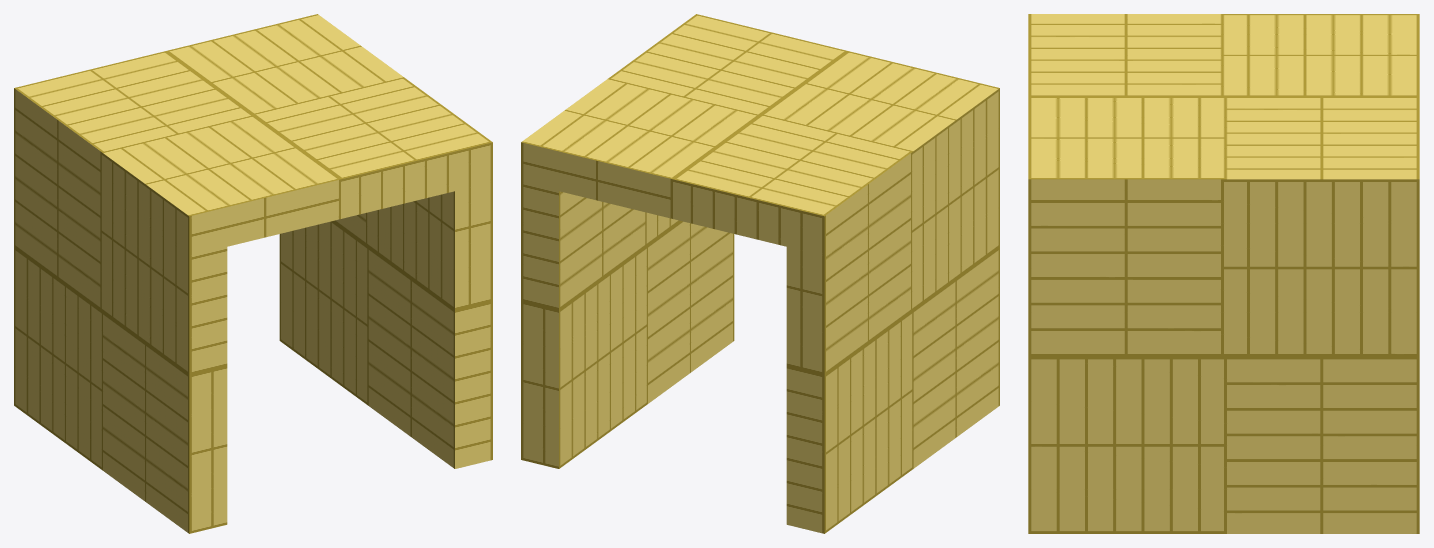
Rendered from arch.obj.
3 renders of one model, left to right at view 1: azimuth 30°, elevation 25°; view 2: azimuth 150°, elevation 25°; view 3: azimuth 270°, elevation 25°, orthographic. The views are drawn at different scales.
Visible parts, largest first — view 1: arch_Cube.010; view 2: arch_Cube.010; view 3: arch_Cube.010.
Part boxes in pixels (bbox=[...]): arch_Cube.010: bbox=[14, 14, 492, 533]; arch_Cube.010: bbox=[521, 14, 999, 533]; arch_Cube.010: bbox=[1028, 14, 1419, 533].
Size of the model in its own units: 2 by 2 by 2.
